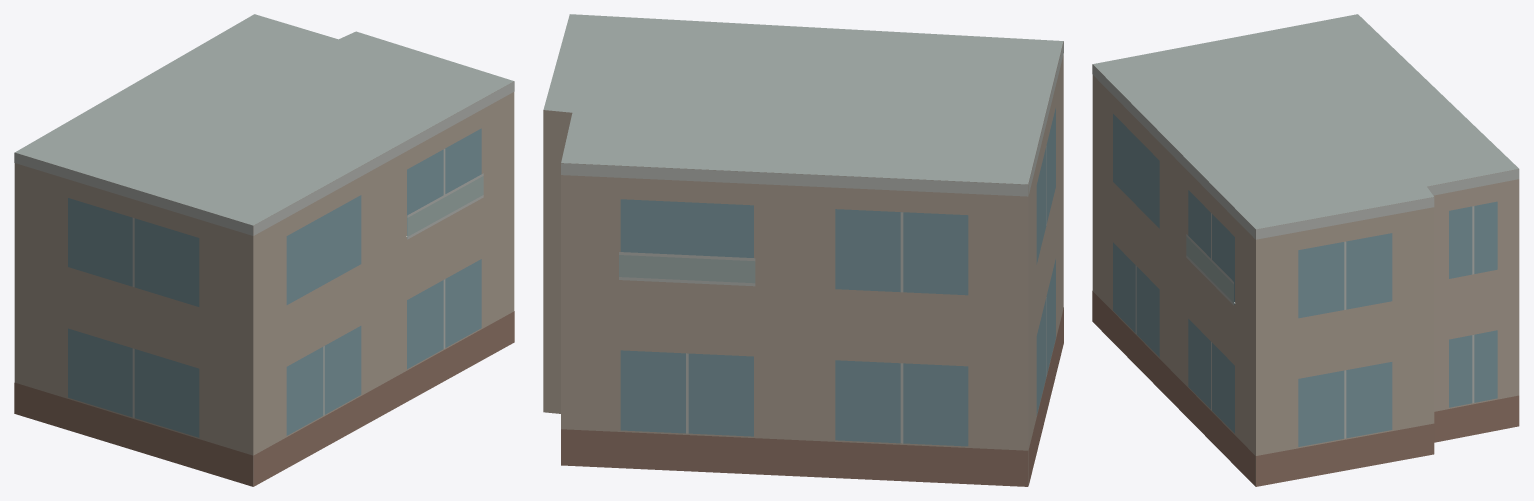
File: survey-upis-33040706.glb
3 views of the same model, side by side, from view 1: azimuth 30°, elevation 25°; view 2: azimuth 150°, elevation 25°; view 3: azimuth 270°, elevation 25° (orthographic). The views are drawn at different scales.
Parts seen in each view (by area): view 1: survey-upis-33040706.tmp; view 2: survey-upis-33040706.tmp; view 3: survey-upis-33040706.tmp.
Part boxes in pixels (box(x1,y1,x2,y2)): survey-upis-33040706.tmp: box(14, 14, 514, 486); survey-upis-33040706.tmp: box(543, 14, 1063, 486); survey-upis-33040706.tmp: box(1092, 14, 1519, 486).
Bounding box in the file's own units: 10.96 × 6.1 × 9.18.
